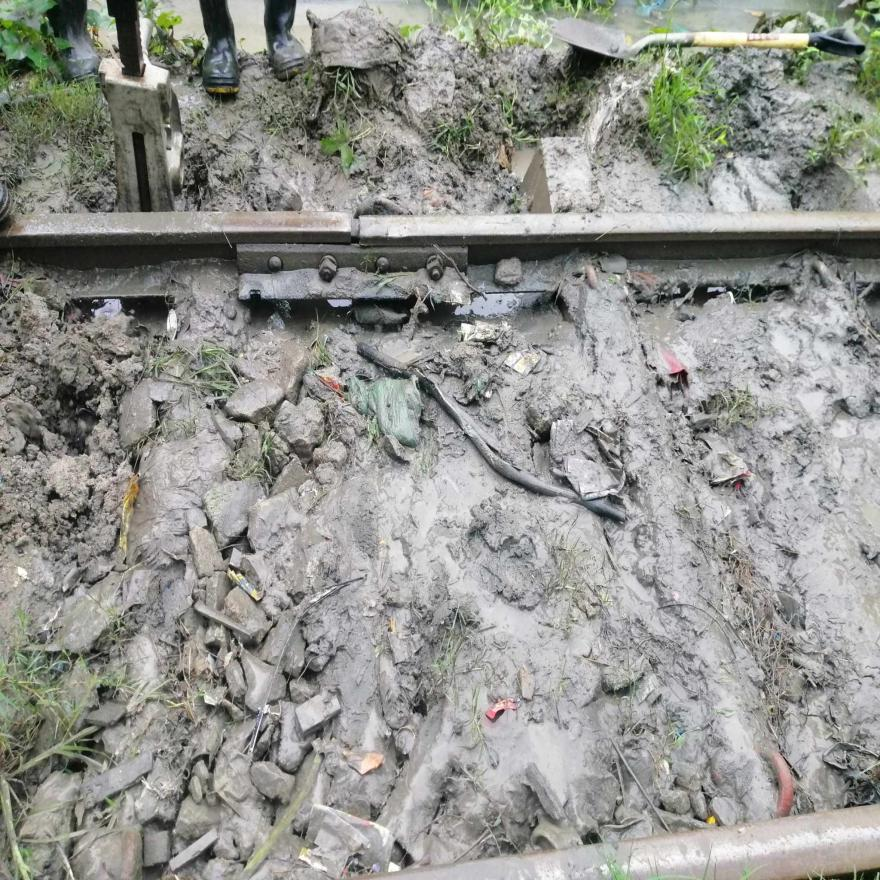railway-gap: (329, 194, 387, 263)
